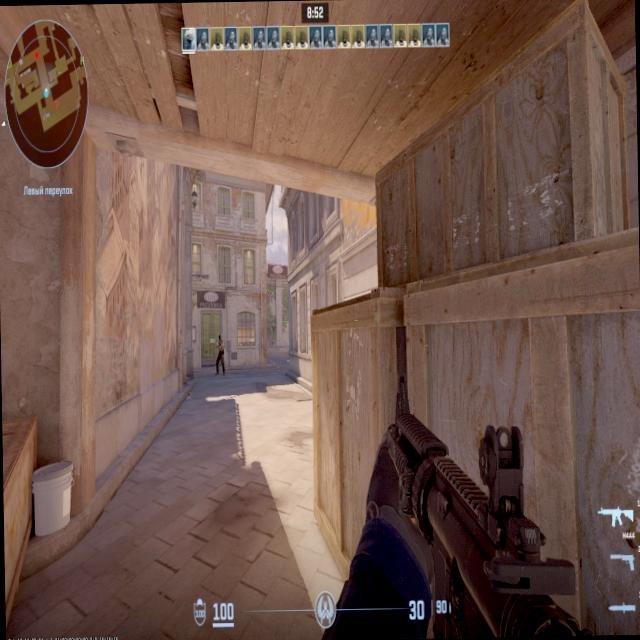T: (218, 335, 224, 372)
T_heat: (219, 337, 221, 342)
